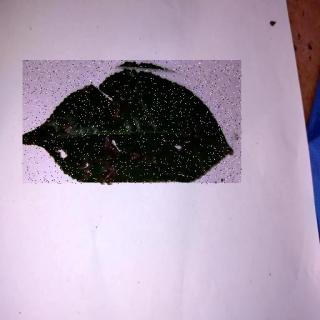Anthracnose: (24, 62, 244, 186)
